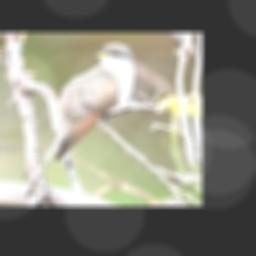Cuckoo: (23, 41, 135, 198)
